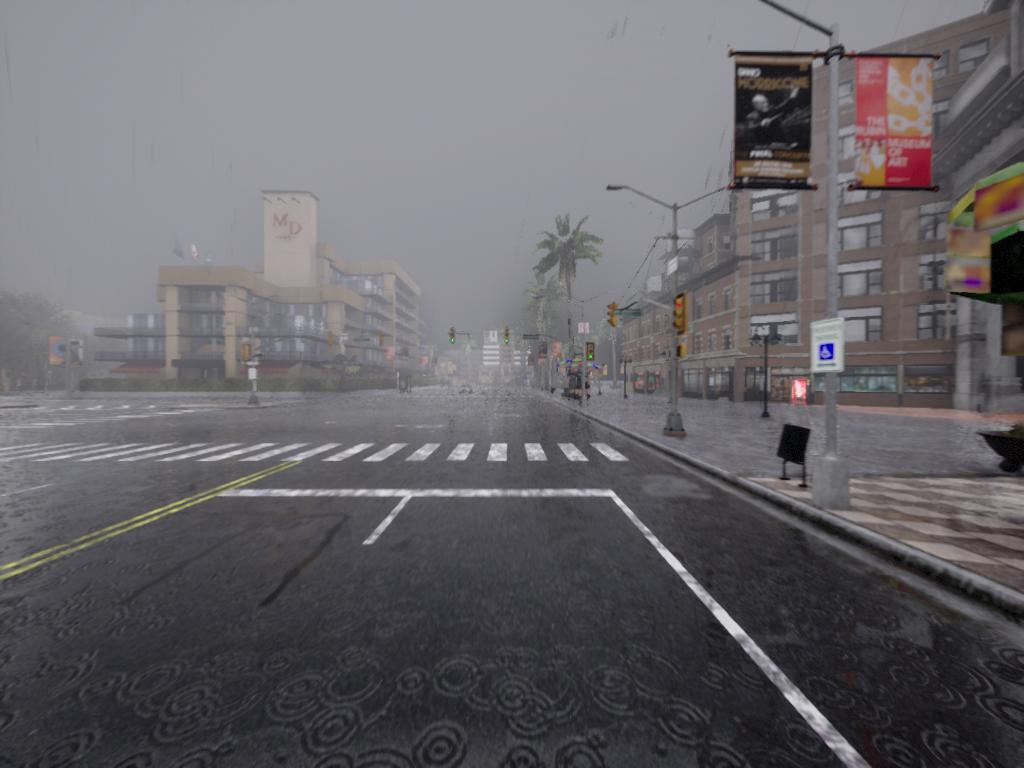traffic_light: (673, 298, 687, 336), (607, 301, 617, 329), (448, 326, 457, 346), (243, 344, 251, 365), (587, 344, 595, 364), (378, 335, 387, 350), (327, 331, 335, 347), (505, 328, 510, 346)
